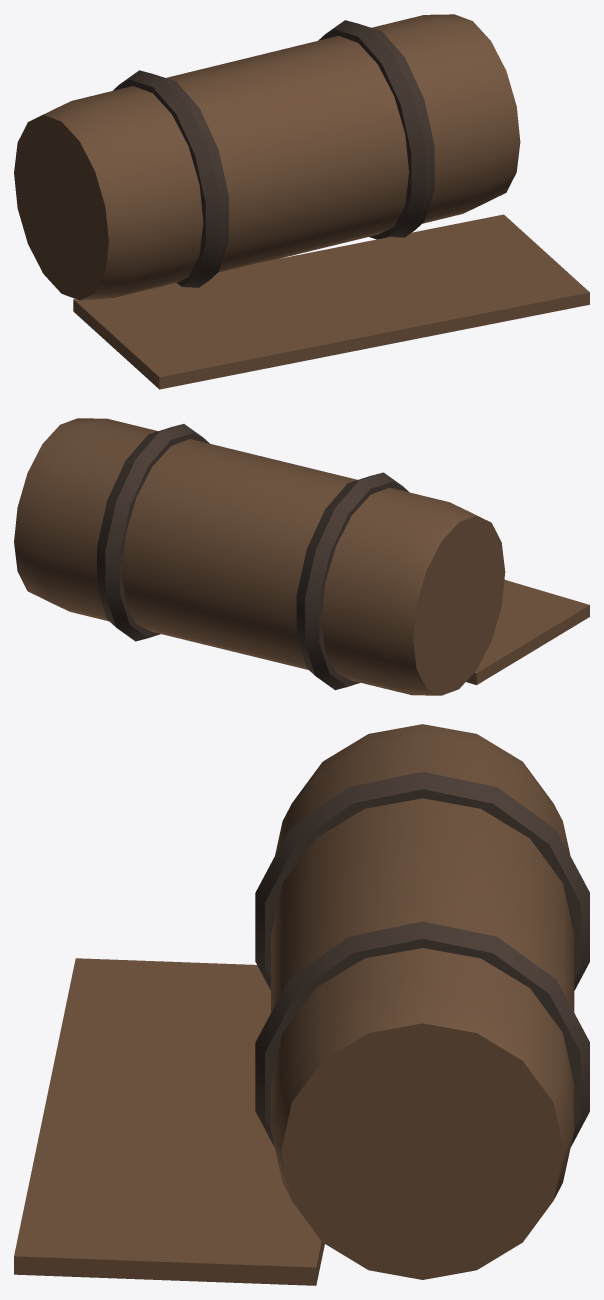
File: cured_leather.glb
3 renders of one model, top to bottom at view 1: azimuth 30°, elevation 25°; view 2: azimuth 150°, elevation 25°; view 3: azimuth 270°, elevation 25°, orthographic. The views are drawn at different scales.
Visible parts, largest first — view 1: cured_leather; view 2: cured_leather; view 3: cured_leather.
Boxes of the visible parts, left/top/right/bottom form: cured_leather: left=14, top=14, right=589, bottom=389; cured_leather: left=14, top=418, right=589, bottom=695; cured_leather: left=14, top=724, right=589, bottom=1285.
Bounding box in the file's own units: 0.1463 × 0.0678 × 0.1139.
